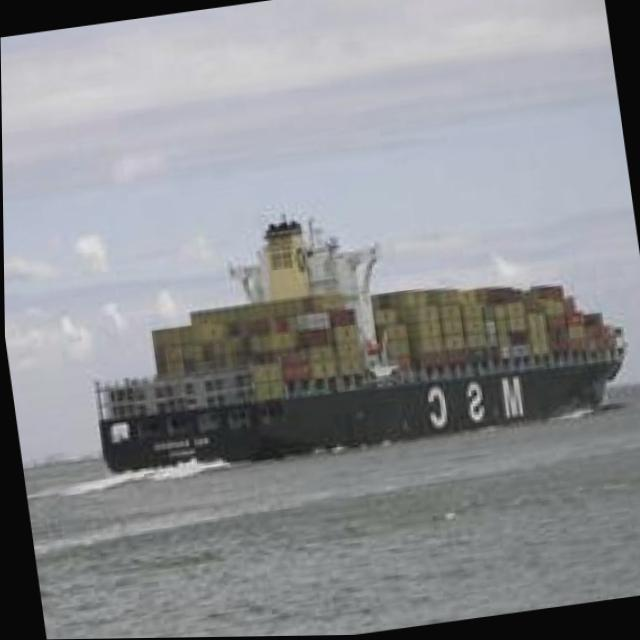ship2: (80, 217, 628, 475)
